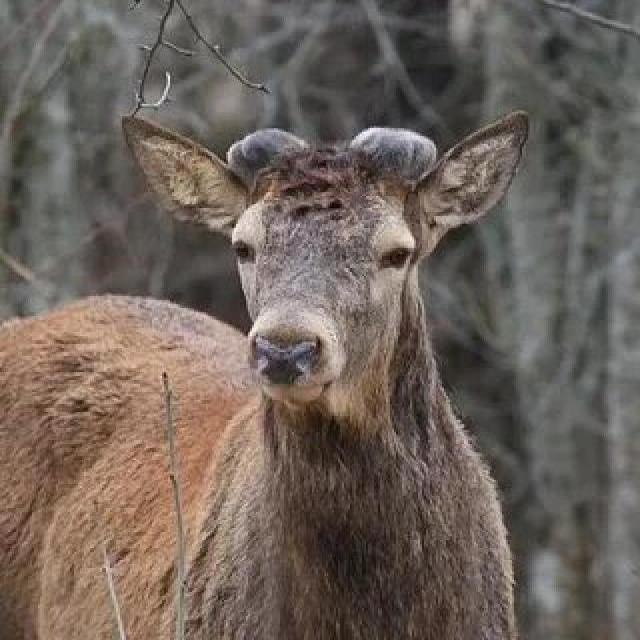deer: (0, 77, 549, 640)
